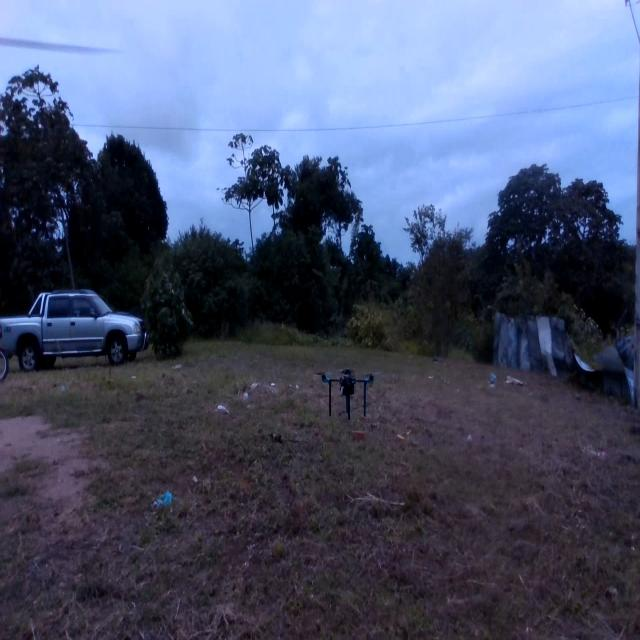-uav-: (310, 356, 384, 431)
